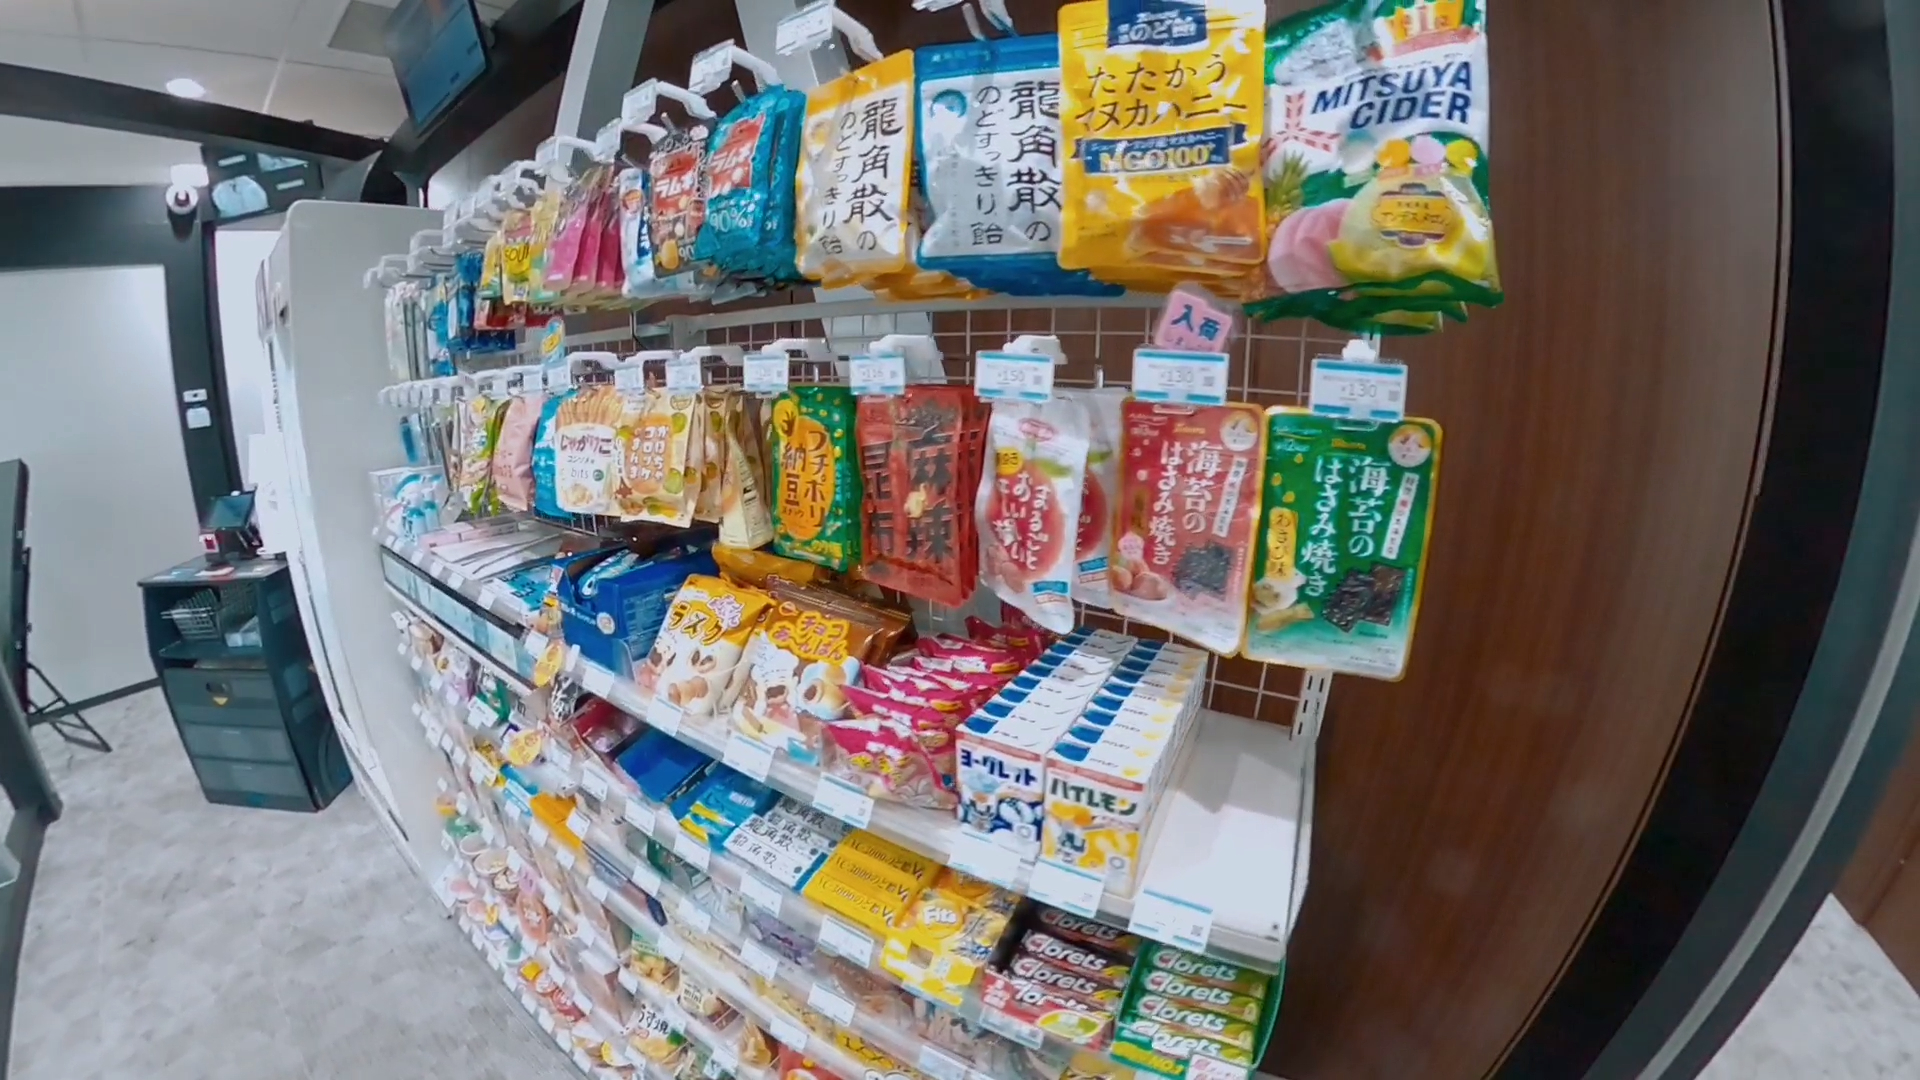NorinoHasamiyaki: (1245, 408, 1439, 681)
